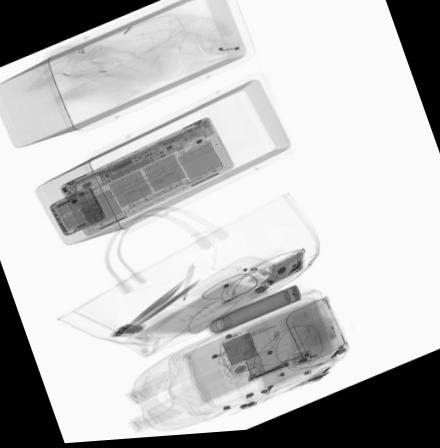Lighter: (324, 322, 337, 345)
